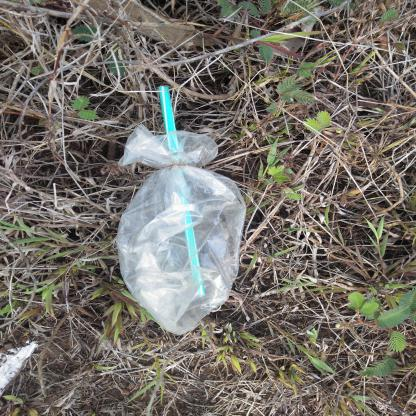Plastic film: (116, 124, 247, 335)
Plastic straw: (159, 86, 205, 295)
